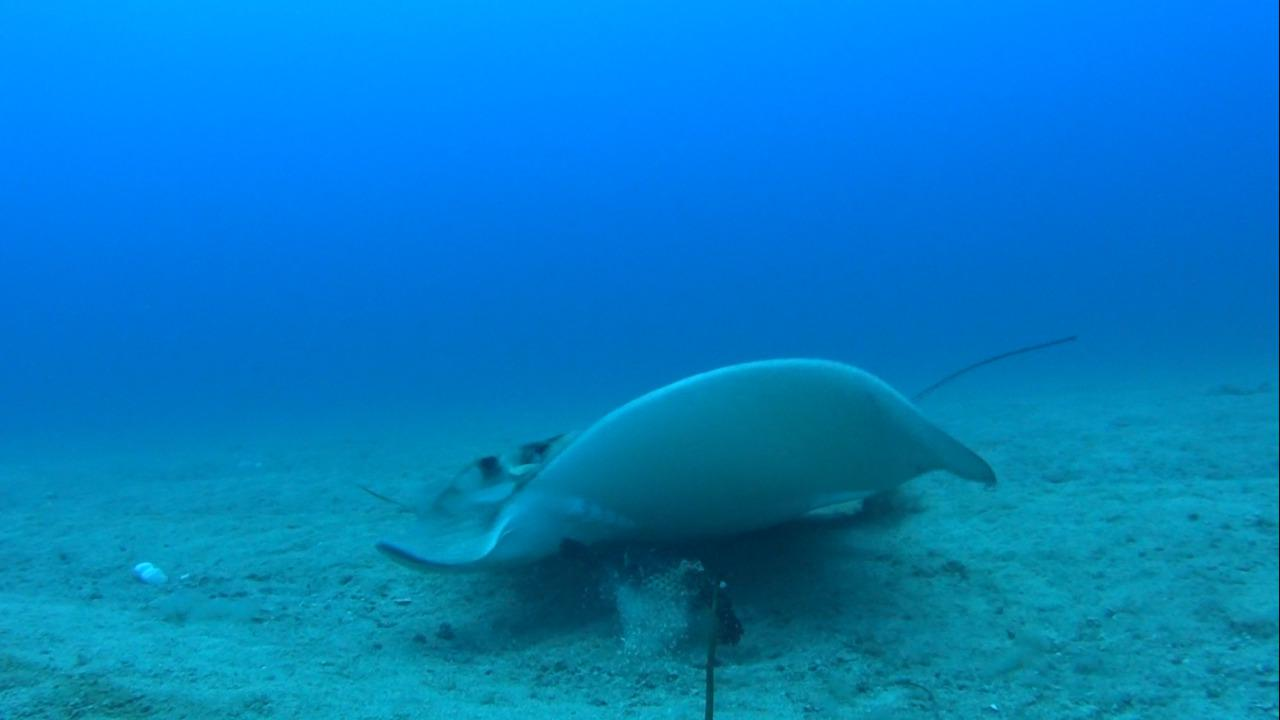myliobatis: (364, 323, 1097, 584)
